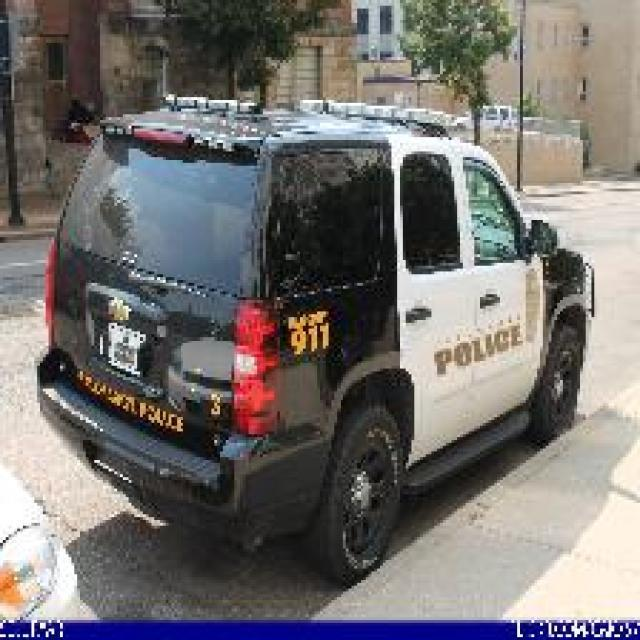emergency: (39, 78, 603, 588)
